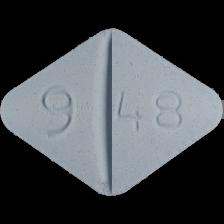0093-7248: (0, 0, 224, 224)
